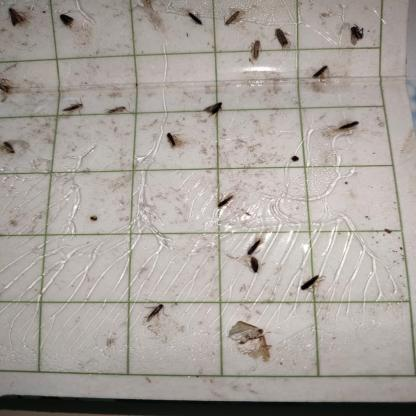prays_oleae: (3, 5, 29, 42), (333, 112, 362, 145), (297, 268, 324, 300), (144, 298, 168, 332), (58, 96, 86, 122), (0, 68, 18, 102), (205, 92, 223, 126), (242, 232, 263, 260), (58, 4, 76, 36), (104, 99, 128, 122), (162, 126, 179, 155), (274, 23, 290, 53), (0, 134, 19, 159), (186, 6, 204, 32), (223, 6, 239, 34), (217, 193, 238, 212), (313, 60, 330, 82), (251, 38, 262, 66), (90, 204, 100, 228)
